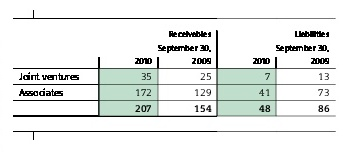table: (0, 0, 356, 154)
